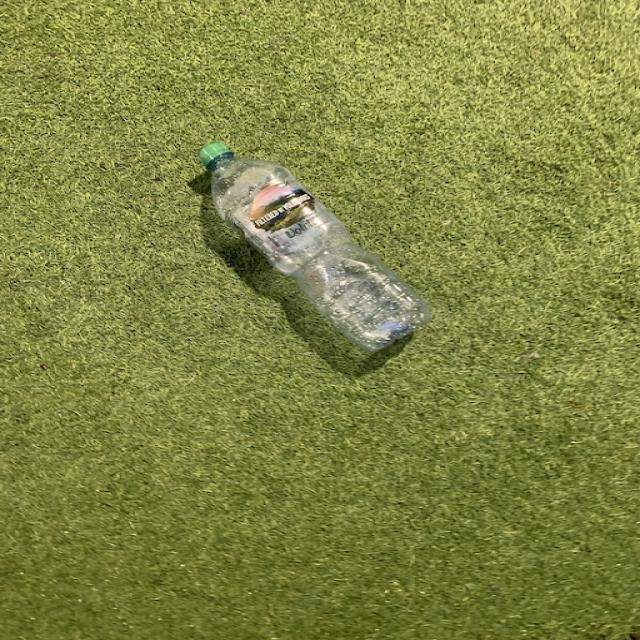PET: (198, 140, 442, 358)
